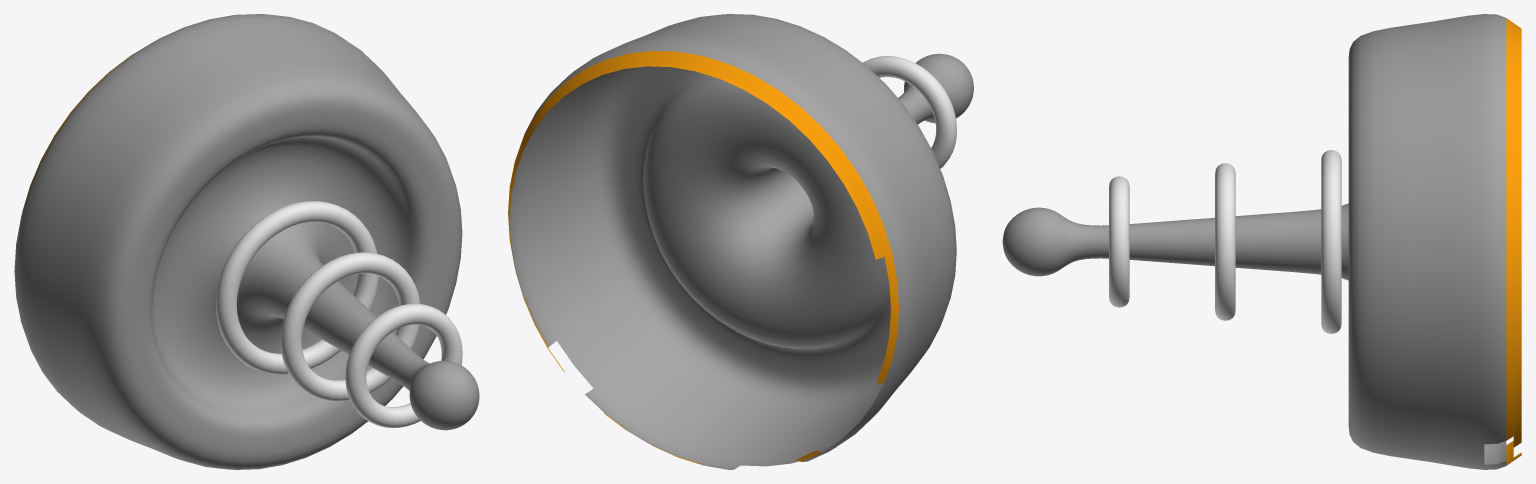
File: LaserBase.fbx
3 views of the same model, side by side, from view 1: azimuth 30°, elevation 25°; view 2: azimuth 150°, elevation 25°; view 3: azimuth 270°, elevation 25° (orthographic).
Parts seen in each view (by area): view 1: Sphere; view 2: Sphere; view 3: Sphere.
Boxes of the visible parts, <box> form: Sphere: <box>14,14,479,469</box>; Sphere: <box>508,14,973,469</box>; Sphere: <box>1002,14,1521,469</box>.
Size of the model in its own units: 23.12 by 23.12 by 26.29.
